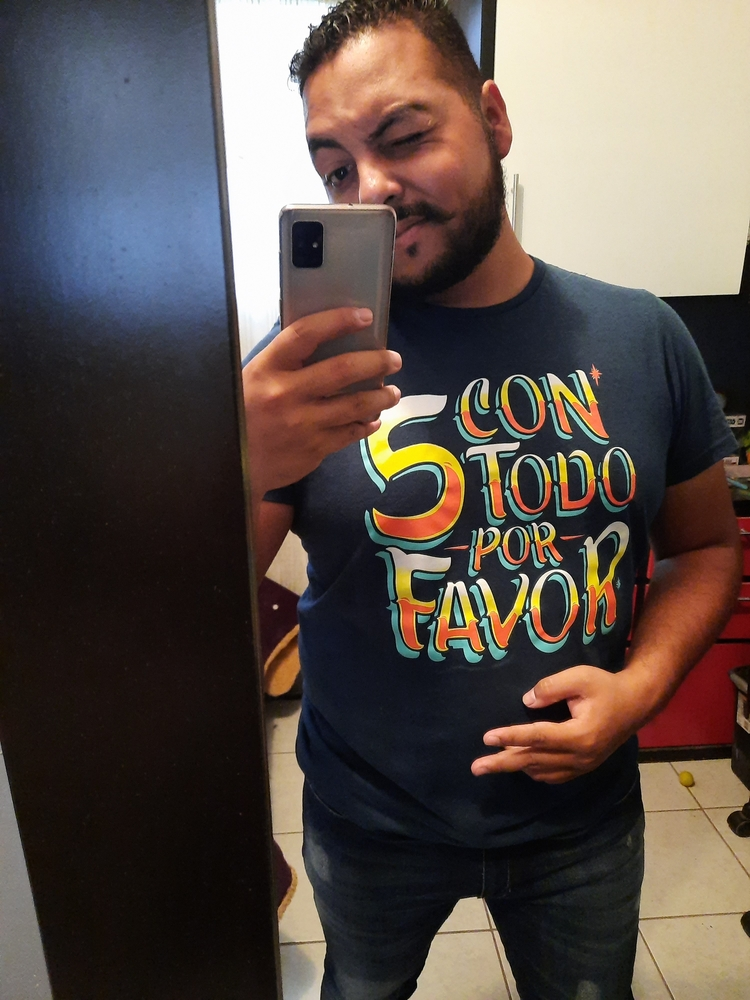Yoshi: (283, 5, 549, 326)
